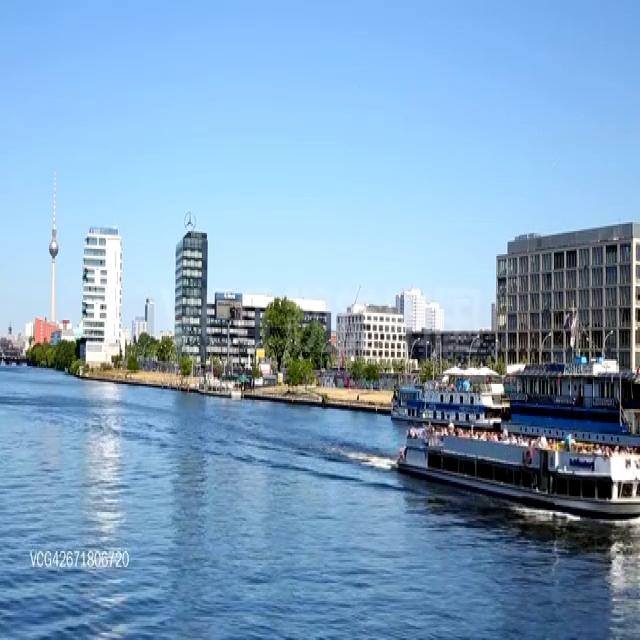passenger ship: (399, 414, 640, 529), (499, 361, 640, 448), (392, 379, 501, 431), (197, 372, 242, 396)
